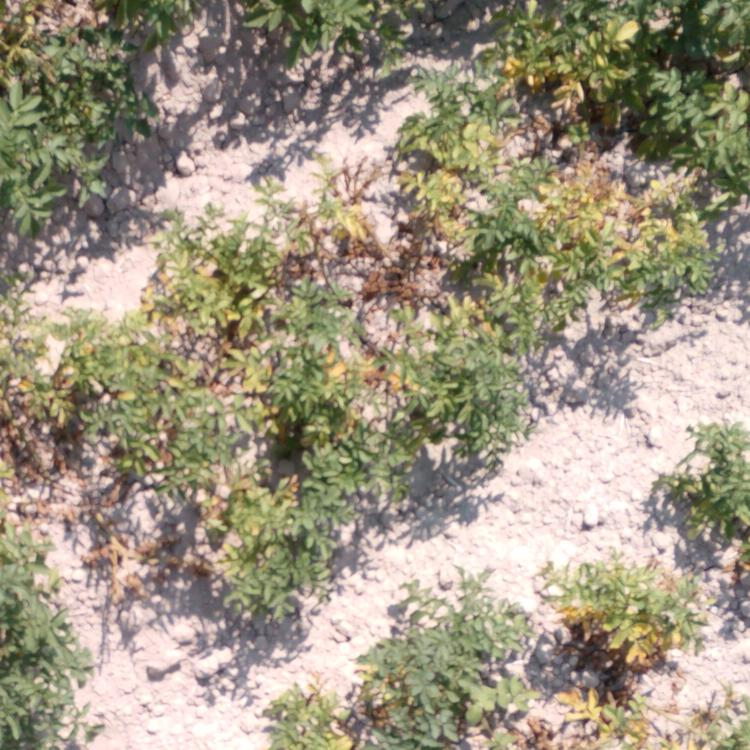healthy: (10, 1, 172, 198), (1, 525, 72, 744), (225, 7, 420, 60), (677, 435, 750, 529)
stressed: (357, 122, 707, 310), (153, 218, 345, 445), (132, 453, 322, 605), (482, 3, 744, 113), (238, 656, 542, 749), (546, 563, 689, 749), (356, 315, 533, 458), (11, 325, 145, 454)
